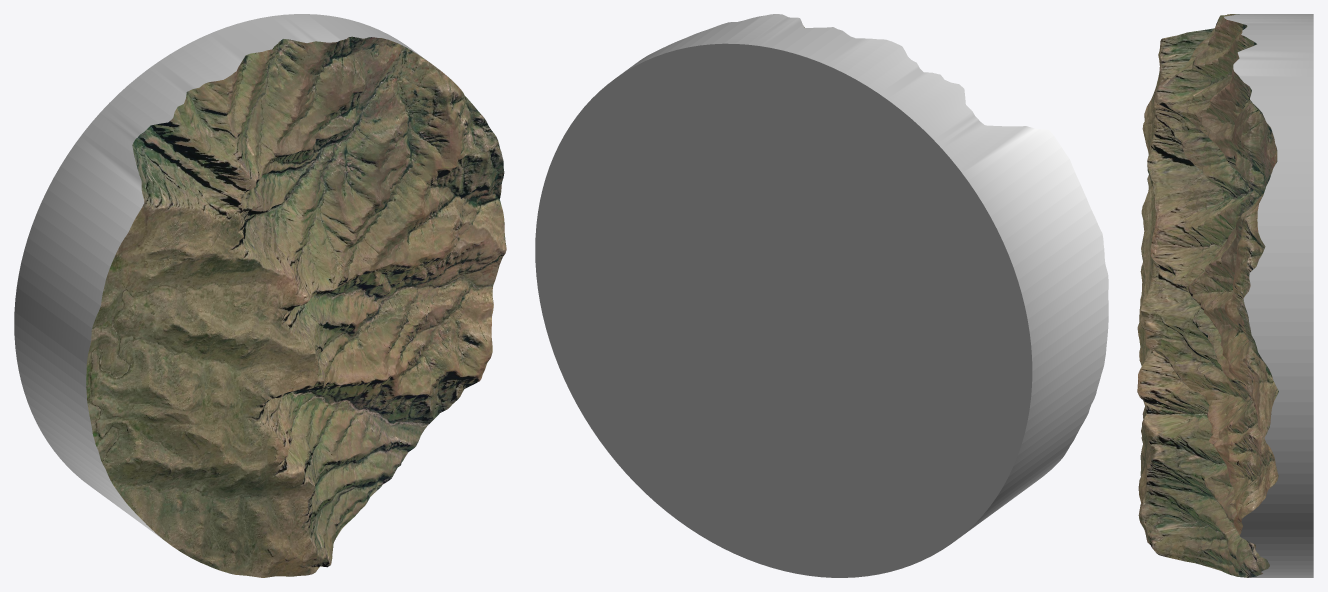
File: bloemfontein_pietermaritzburg.glb
3 renders of one model, left to right at view 1: azimuth 30°, elevation 25°; view 2: azimuth 150°, elevation 25°; view 3: azimuth 270°, elevation 25°, orthographic. The views are drawn at different scales.
Size of the model in its own units: 200 by 200 by 62.56.
Materials: 2 (1 with a texture image).
